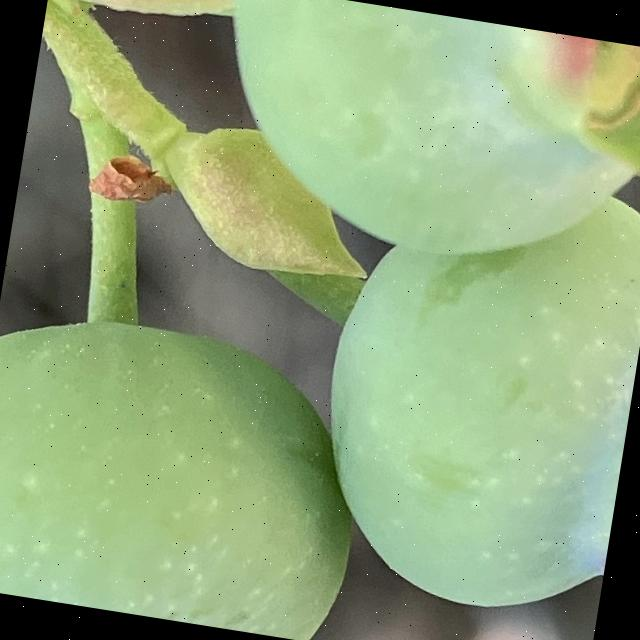Blueberries: (290, 157, 640, 639), (189, 0, 640, 292), (0, 300, 383, 640)
